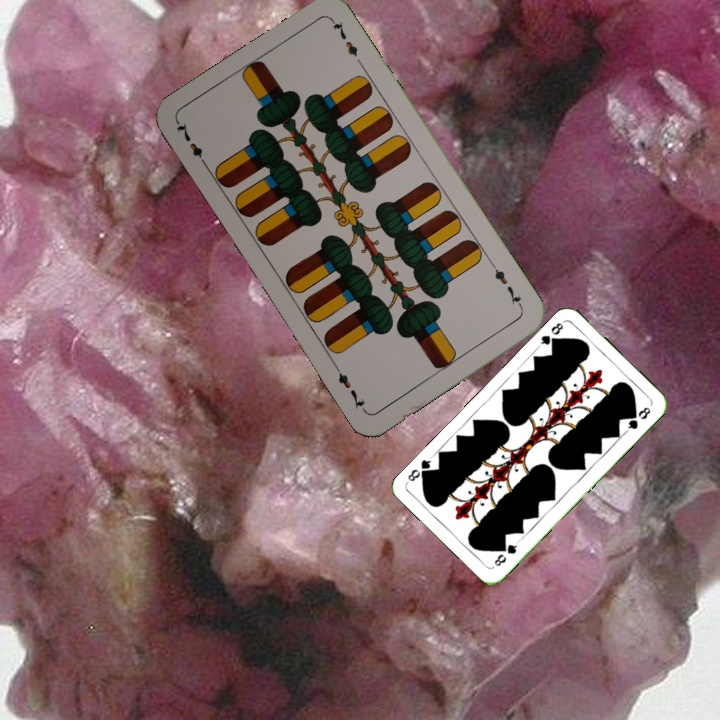E7: (487, 259, 525, 312), (173, 118, 211, 171)
G8: (534, 317, 566, 350), (490, 537, 521, 569)
